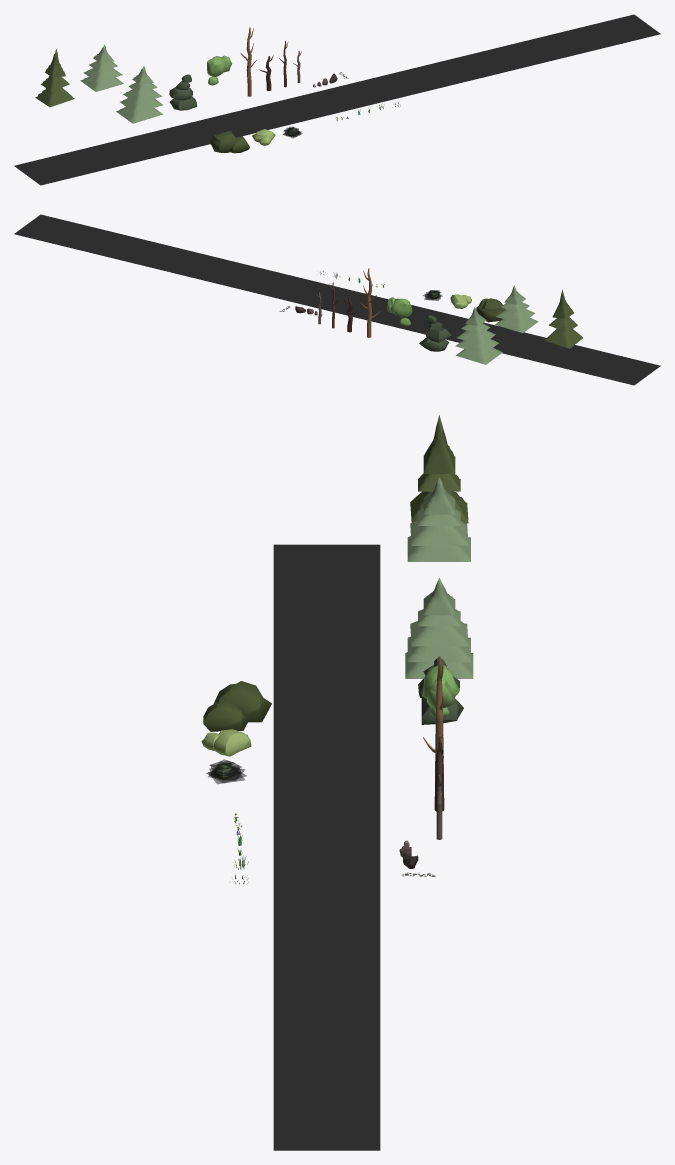
File: OutDoors_Foliage2.fbx
The picture shows the model from 3 angles, top to bottom: view 1: azimuth 30°, elevation 25°; view 2: azimuth 150°, elevation 25°; view 3: azimuth 270°, elevation 25°; orthographic projection. The views are drawn at different scales.
Parts seen in each view (by area): view 1: Road_LeftSide, Road_RightSide, Tree_Fern_Short_Leaves, Tree_Fern_Long_LongLeaves, Tree_Fern_Long_ShortLeaves, Bushes_Big2, Tree_Fern_Long_BareShape, Tree_Puffs_Leaves_MATT, Tree_Thick_Leaves1; view 2: Road_LeftSide, Road_RightSide, Tree_Fern_Short_Leaves, Tree_Fern_Long_LongLeaves, Tree_Fern_Long_ShortLeaves, Bushes_Big2, Tree_Fern_Long_BareShape, Tree_Puffs_Leaves_MATT, Tree_Thick_Leaves1; view 3: Road_RightSide, Road_LeftSide, Tree_Fern_Short_Leaves, Tree_Fern_Long_LongLeaves, Tree_Fern_Long_ShortLeaves, Bushes_Big2, Bushes_Big1.
Part boxes in pixels (x1,y1,x2,y2): Road_LeftSide: [14, 14, 647, 175]; Road_RightSide: [27, 24, 660, 185]; Tree_Fern_Short_Leaves: [116, 66, 162, 123]; Tree_Fern_Long_LongLeaves: [80, 44, 123, 91]; Tree_Fern_Long_ShortLeaves: [35, 48, 74, 107]; Bushes_Big2: [210, 130, 237, 152]; Tree_Fern_Long_BareShape: [240, 27, 256, 96]; Tree_Puffs_Leaves_MATT: [207, 56, 226, 76]; Tree_Thick_Leaves1: [169, 96, 196, 110]; Road_LeftSide: [14, 224, 647, 385]; Road_RightSide: [27, 214, 660, 375]; Tree_Fern_Short_Leaves: [455, 307, 502, 364]; Tree_Fern_Long_LongLeaves: [495, 285, 538, 332]; Tree_Fern_Long_ShortLeaves: [544, 289, 582, 348]; Bushes_Big2: [479, 298, 505, 322]; Tree_Fern_Long_BareShape: [360, 268, 379, 337]; Tree_Puffs_Leaves_MATT: [390, 298, 412, 318]; Tree_Thick_Leaves1: [419, 337, 448, 351]; Road_RightSide: [273, 544, 326, 1150]; Road_LeftSide: [327, 544, 380, 1150]; Tree_Fern_Short_Leaves: [405, 578, 473, 678]; Tree_Fern_Long_LongLeaves: [407, 477, 470, 561]; Tree_Fern_Long_ShortLeaves: [410, 415, 468, 523]; Bushes_Big2: [213, 681, 271, 722]; Bushes_Big1: [203, 701, 248, 731].
Size of the model in its own units: 15576 by 2277 by 2957.
